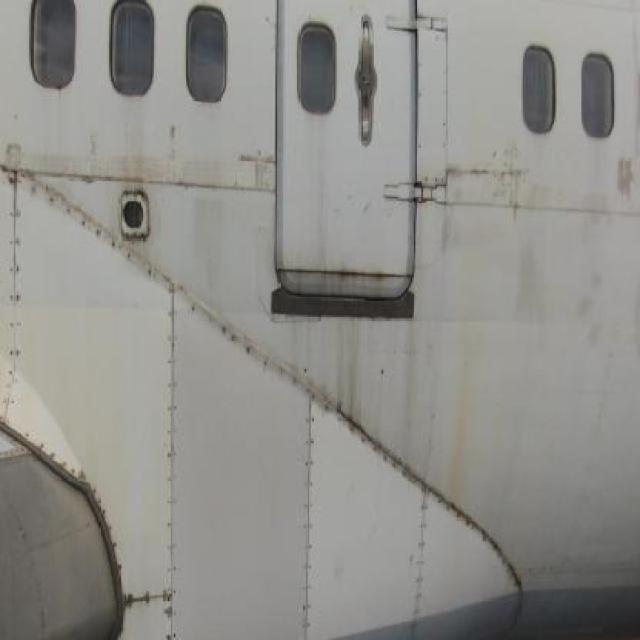Missing-Rivet: (3, 168, 29, 410), (129, 580, 177, 634)
Rust: (444, 230, 488, 502), (327, 321, 379, 430), (404, 306, 434, 485), (293, 252, 402, 290), (124, 106, 153, 188)
Scartch: (499, 200, 636, 362), (448, 152, 544, 220), (244, 147, 278, 199), (609, 150, 636, 204)
